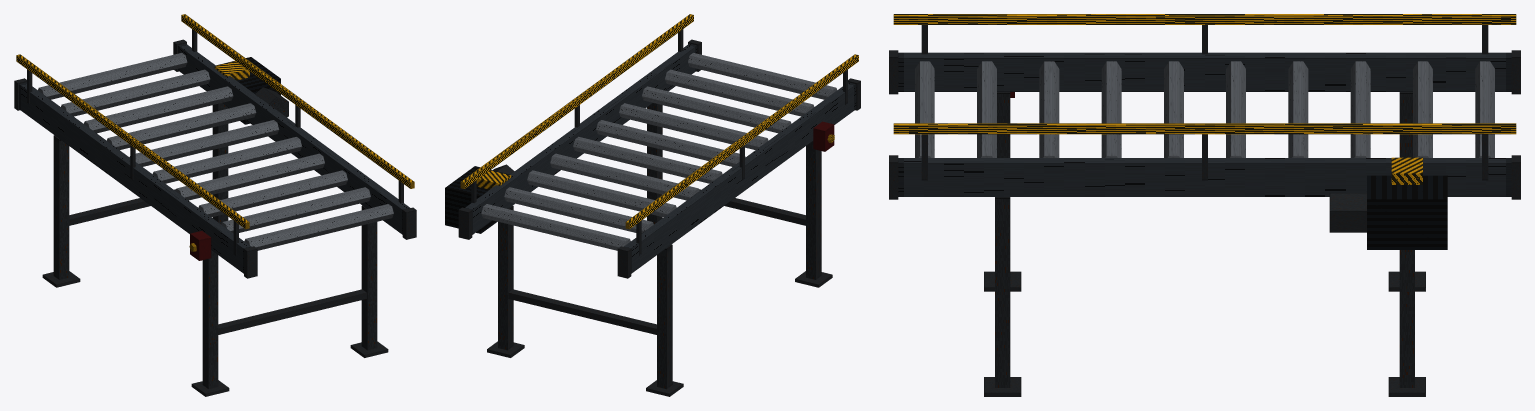
The model's file is conveyor_segment.glb.
The picture shows the model from 3 angles, left to right: view 1: azimuth 30°, elevation 25°; view 2: azimuth 150°, elevation 25°; view 3: azimuth 270°, elevation 25°; orthographic projection. The views are drawn at different scales.
Visible parts, largest first — view 1: conveyor_segment; view 2: conveyor_segment; view 3: conveyor_segment.
Boxes of the visible parts, x1,y1,x2,y2 form: conveyor_segment: [14, 14, 416, 396]; conveyor_segment: [445, 14, 860, 396]; conveyor_segment: [889, 14, 1520, 396].
Size of the model in its own units: 1.12 by 0.945 by 2.03.
1 material, 1 textured.
